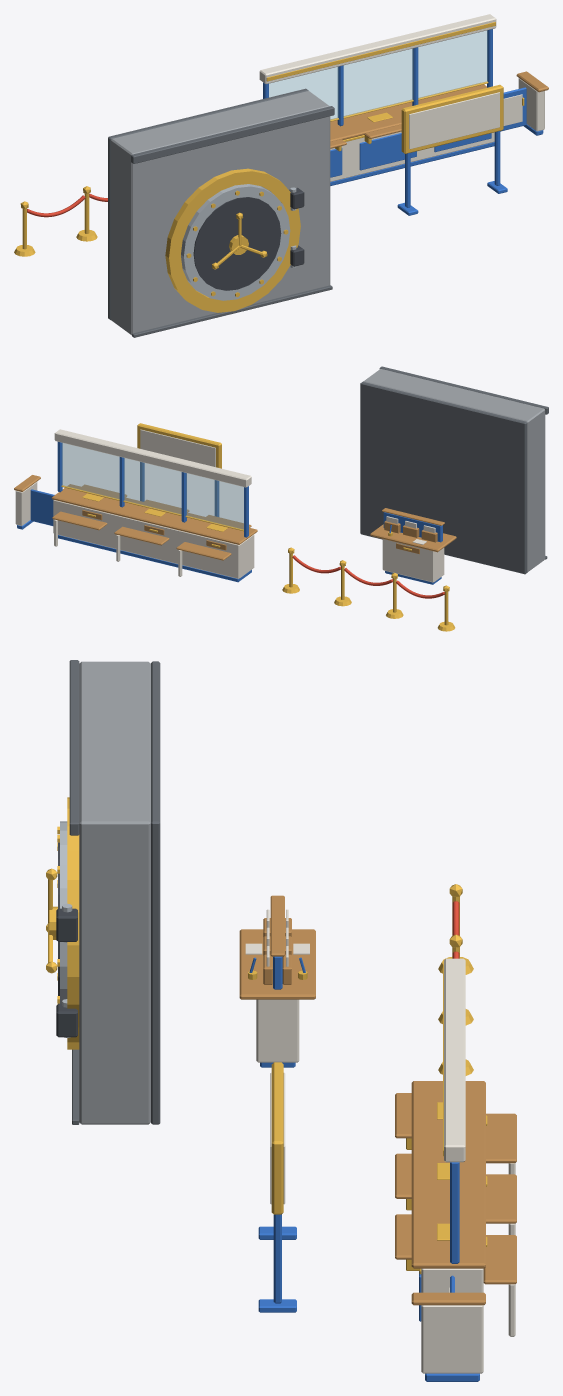
The model's file is bank-counter-set.glb.
The picture shows the model from 3 angles, top to bottom: view 1: azimuth 30°, elevation 25°; view 2: azimuth 150°, elevation 25°; view 3: azimuth 270°, elevation 25°; orthographic projection. The views are drawn at different scales.
Parts seen in each view (by area): view 1: Vault_Wall, VaultDoor_Face, Vault_FrameRing, VaultDoor, Window_Glass_2, Window_Glass_3, SignFace, Window_Header, Vault_Cornice, Counter_Top, Sign_Frame, Window_Glass_1 (+11 smaller); view 2: Vault_BackPanel, Vault_Wall, Counter_Body, Counter_Top, Window_Header, Window_Glass_2, Window_Glass_1, Window_Glass_3, Desk_Base, SignFace_Back, Desk_Top, Sign_Frame (+8 smaller); view 3: Vault_Wall, Counter_Top, Vault_BackPanel, Window_Header, Counter_EndPillar, Desk_Top, Desk_Base, Vault_FrameRing, Sign_Frame, Vault_Cornice, VaultDoor, Teller_Desk_3 (+6 smaller).
Part boxes in pixels (x1=…): Vault_Wall: x1=111, y1=91, x2=330, y2=335; VaultDoor_Face: x1=193, y1=197, x2=281, y2=290; Vault_FrameRing: x1=165, y1=168, x2=300, y2=312; VaultDoor: x1=181, y1=184, x2=290, y2=300; Window_Glass_2: x1=343, y1=49, x2=413, y2=116; Window_Glass_3: x1=418, y1=30, x2=487, y2=98; SignFace: x1=409, y1=92, x2=499, y2=149; Window_Header: x1=259, y1=14, x2=496, y2=84; Vault_Cornice: x1=131, y1=106, x2=334, y2=163; Counter_Top: x1=330, y1=82, x2=486, y2=141; Sign_Frame: x1=401, y1=84, x2=503, y2=153; Window_Glass_1: x1=269, y1=67, x2=338, y2=119; Vault_BackPanel: x1=360, y1=382, x2=527, y2=574; Vault_Wall: x1=363, y1=369, x2=545, y2=572; Counter_Body: x1=53, y1=500, x2=254, y2=578; Counter_Top: x1=51, y1=484, x2=257, y2=544; Window_Header: x1=54, y1=429, x2=251, y2=487; Window_Glass_2: x1=124, y1=458, x2=181, y2=514; Window_Glass_1: x1=186, y1=473, x2=243, y2=529; Window_Glass_3: x1=62, y1=443, x2=119, y2=499; Desk_Base: x1=382, y1=539, x2=444, y2=582; SignFace_Back: x1=140, y1=429, x2=215, y2=467; Desk_Top: x1=370, y1=524, x2=456, y2=552; Sign_Frame: x1=137, y1=423, x2=221, y2=468; Vault_Wall: x1=79, y1=661, x2=150, y2=1124; Counter_Top: x1=411, y1=1081, x2=485, y2=1268; Vault_BackPanel: x1=151, y1=661, x2=160, y2=1124; Window_Header: x1=444, y1=958, x2=465, y2=1162; Counter_EndPillar: x1=421, y1=1305, x2=483, y2=1373; Desk_Top: x1=239, y1=929, x2=315, y2=999; Desk_Base: x1=256, y1=999, x2=299, y2=1062; Vault_FrameRing: x1=67, y1=797, x2=79, y2=1049; Sign_Frame: x1=271, y1=1062, x2=283, y2=1214; Vault_Cornice: x1=69, y1=660, x2=79, y2=835; VaultDoor: x1=46, y1=821, x2=67, y2=1004; Teller_Desk_3: x1=483, y1=1235, x2=516, y2=1284.
Size of the model in its own units: 41.86 by 14 by 19.7.
